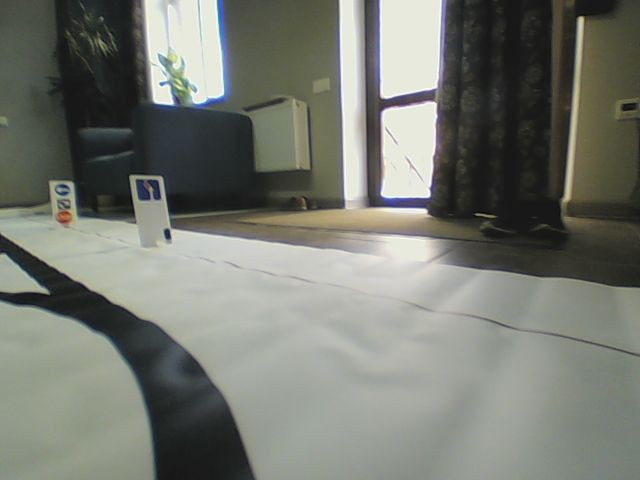priority_movement: (134, 176, 162, 201)
